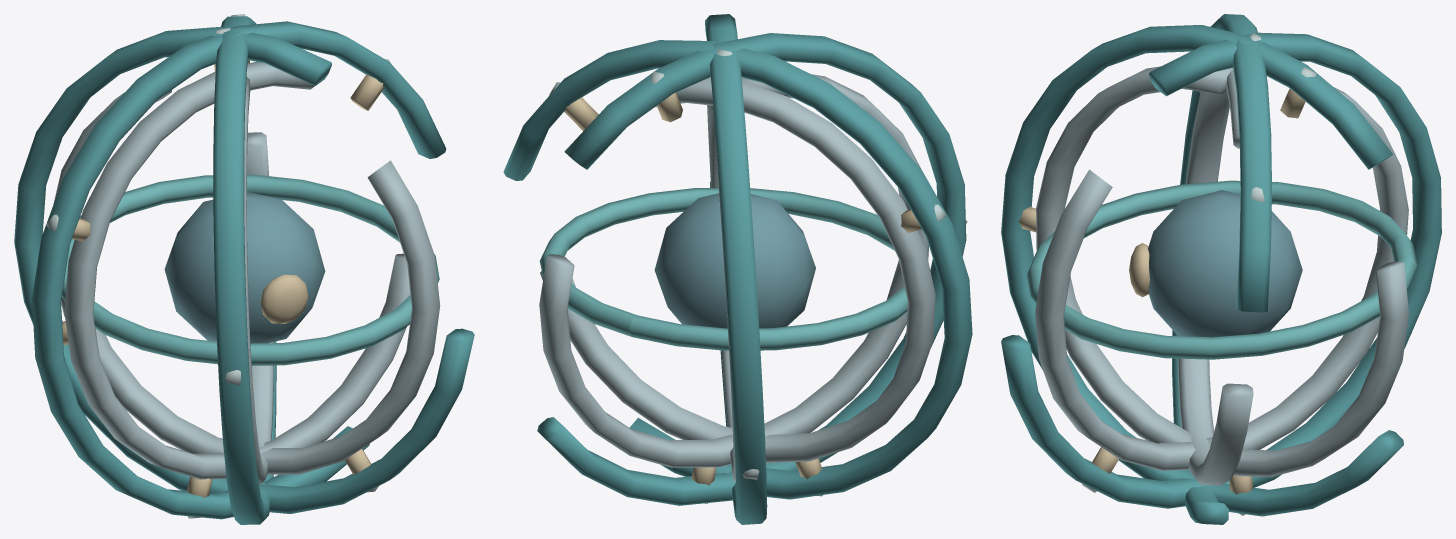
The model's file is ART-64.glb.
3 renders of one model, left to right at view 1: azimuth 30°, elevation 25°; view 2: azimuth 150°, elevation 25°; view 3: azimuth 270°, elevation 25°, orthographic.
Parts seen in each view (by area): view 1: world; view 2: world; view 3: world.
Boxes of the visible parts, x1=… form: world: x1=14, y1=14, x2=474, y2=524; world: x1=503, y1=14, x2=972, y2=524; world: x1=1001, y1=14, x2=1441, y2=524.
Bounding box in the file's own units: 1.95 × 2 × 1.72.
